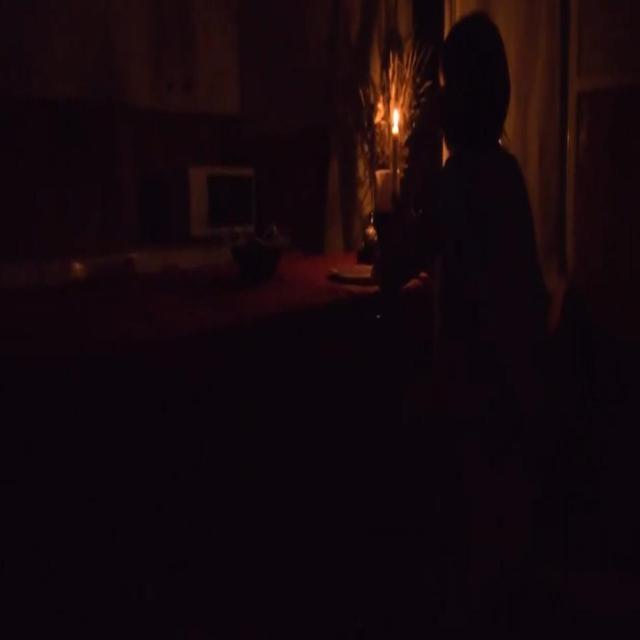smoke: (390, 102, 402, 134)
